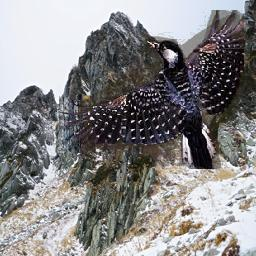Woodpecker: (60, 11, 245, 170)
